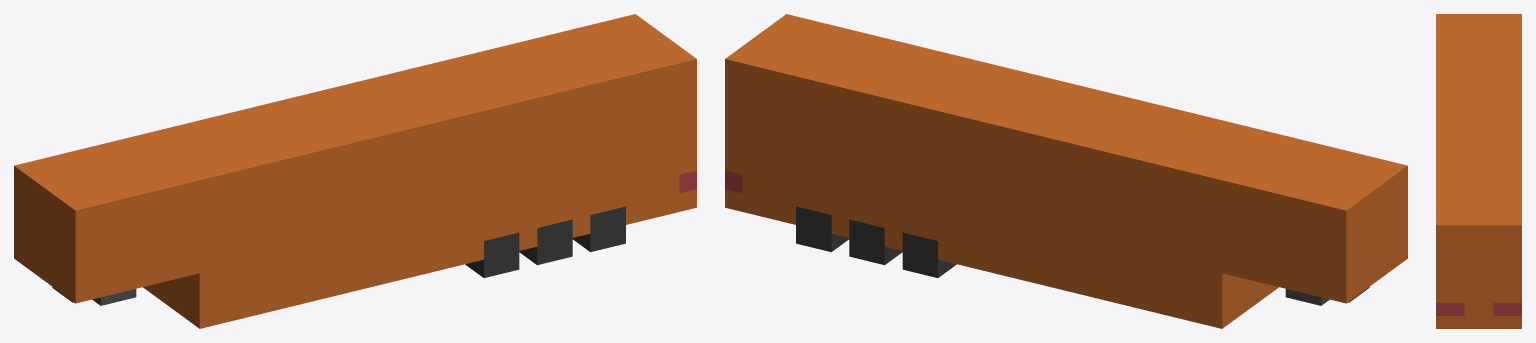
The model's file is semitrailer-v1-orange.gltf.
3 renders of one model, left to right at view 1: azimuth 30°, elevation 25°; view 2: azimuth 150°, elevation 25°; view 3: azimuth 270°, elevation 25°, orthographic. The views are drawn at different scales.
Visible parts, largest first — view 1: model, wheels; view 2: model, wheels; view 3: model.
Part boxes in pixels (x1=…): model: x1=14, y1=14, x2=696, y2=328; wheels: x1=465, y1=206, x2=625, y2=277; model: x1=725, y1=14, x2=1407, y2=328; wheels: x1=796, y1=206, x2=956, y2=277; model: x1=1436, y1=14, x2=1521, y2=328.
Size of the model in its own units: 3.5 by 0.9 by 0.6.
2 materials, 2 textured.
